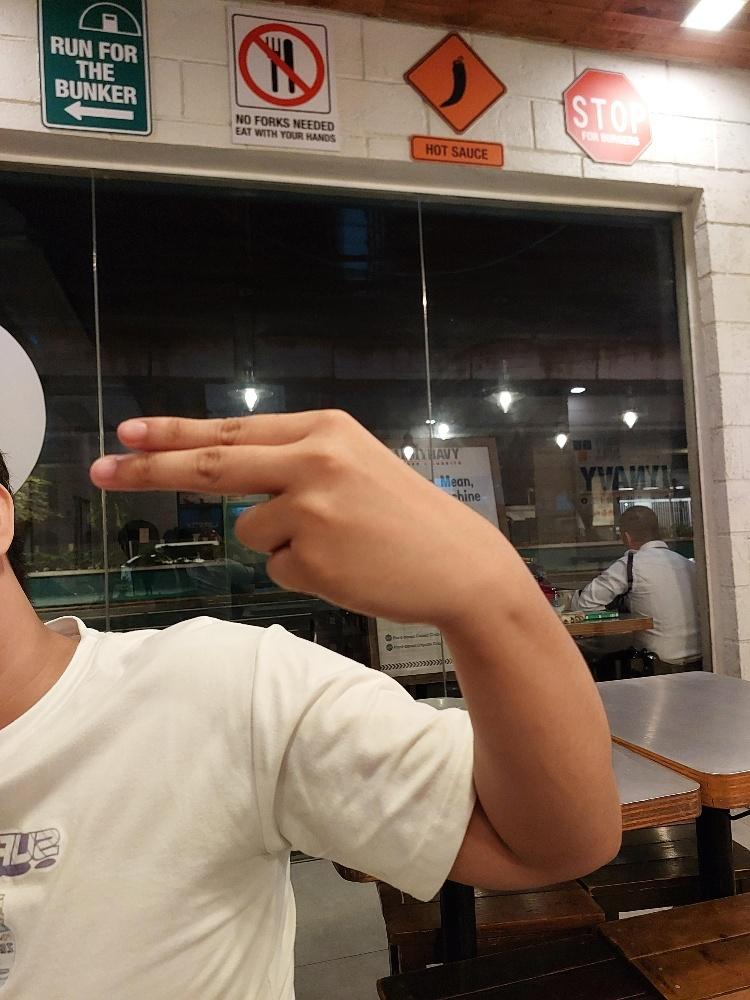h: (88, 405, 488, 625)
